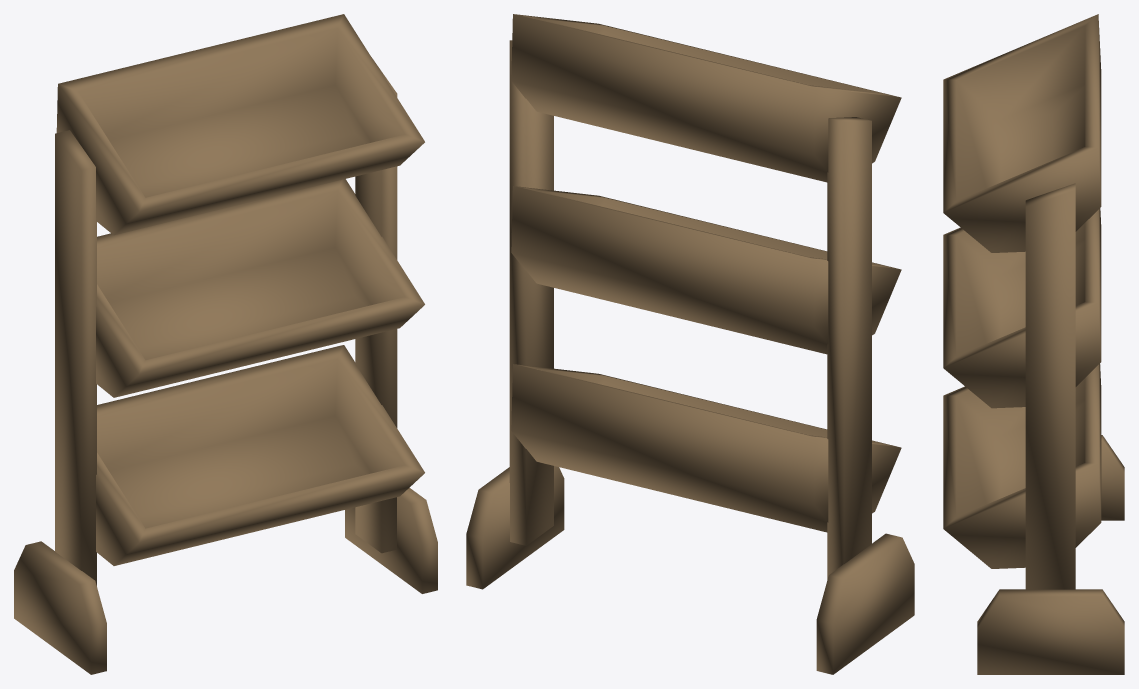
File: rpgpp_ag_shelf_wood_05a.fbx
3 renders of one model, left to right at view 1: azimuth 30°, elevation 25°; view 2: azimuth 150°, elevation 25°; view 3: azimuth 270°, elevation 25°, orthographic. The views are drawn at different scales.
Visible parts, largest first — view 1: rpgpp_ag_shelf_wood_05a; view 2: rpgpp_ag_shelf_wood_05a; view 3: rpgpp_ag_shelf_wood_05a.
Boxes of the visible parts, <box> form: rpgpp_ag_shelf_wood_05a: <box>14,14,437,674</box>; rpgpp_ag_shelf_wood_05a: <box>466,14,914,674</box>; rpgpp_ag_shelf_wood_05a: <box>943,14,1124,674</box>.
Bounding box in the file's own units: 0.6255 × 0.926 × 0.2966.
